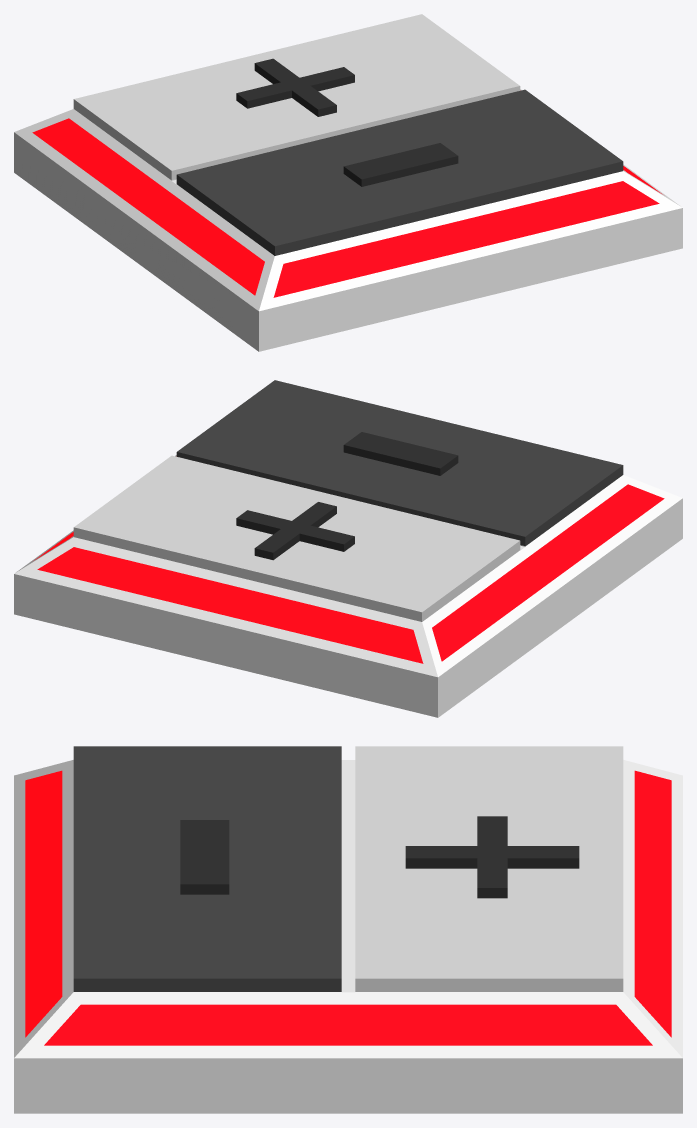
The model's file is manipulator.fbx.
3 views of the same model, one above another, from view 1: azimuth 30°, elevation 25°; view 2: azimuth 150°, elevation 25°; view 3: azimuth 270°, elevation 25° (orthographic). The views are drawn at different scales.
Parts seen in each view (by area): view 1: Plane.007; view 2: Plane.007; view 3: Plane.007.
Part boxes in pixels (x1,y1,x2,y2): Plane.007: (14,14,682,351); Plane.007: (14,380,682,717); Plane.007: (14,746,682,1113).
Size of the model in its own units: 186 by 36.81 by 186.
